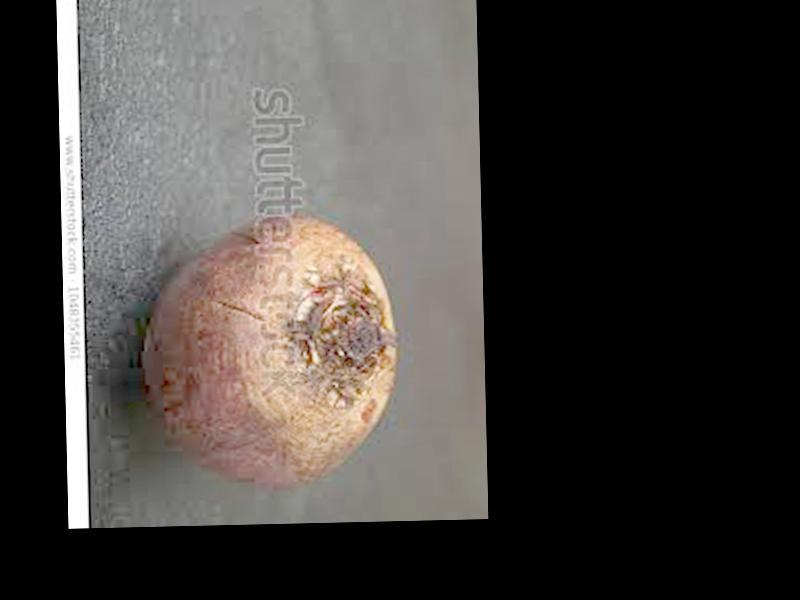Beet: (143, 216, 398, 495)
